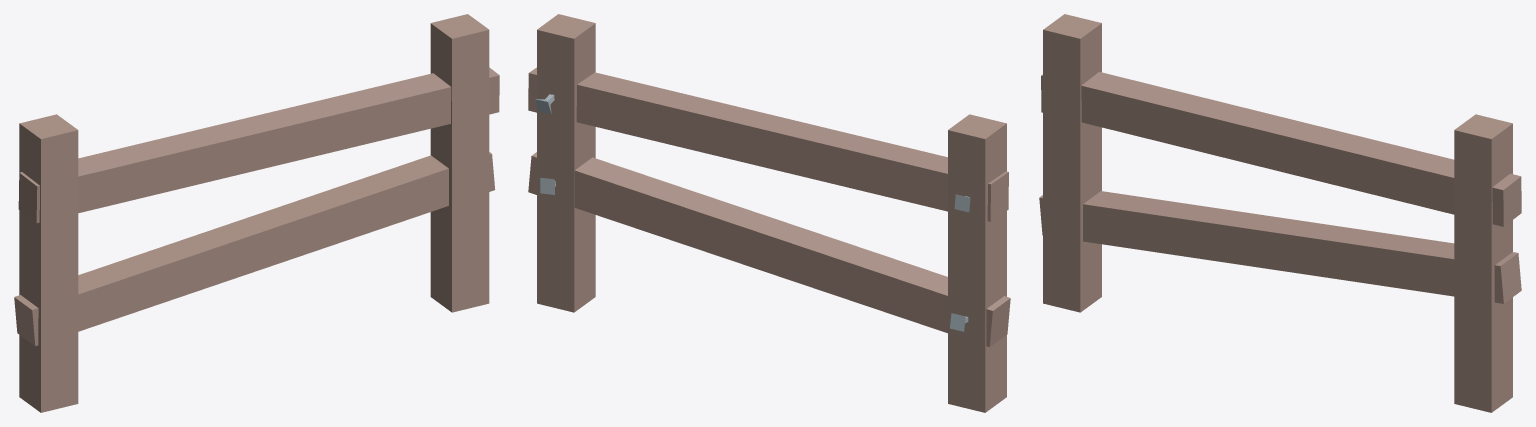
File: fence-3.glb
3 views of the same model, side by side, from view 1: azimuth 30°, elevation 25°; view 2: azimuth 150°, elevation 25°; view 3: azimuth 330°, elevation 25° (orthographic).
Parts seen in each view (by area): view 1: group1665241248, group1089299160, group320382041, group251762872; view 2: group1665241248, group1089299160, group320382041, group251762872; view 3: group1089299160, group1665241248, group251762872, group320382041.
Part boxes in pixels (box(x1,y1,x2,y2)): group1665241248: box(14, 152, 495, 346); group1089299160: box(18, 67, 499, 223); group320382041: box(19, 114, 78, 412); group251762872: box(430, 14, 489, 312); group1665241248: box(528, 152, 1010, 347); group1089299160: box(528, 67, 1008, 221); group320382041: box(948, 114, 1006, 412); group251762872: box(537, 14, 595, 312); group1089299160: box(1041, 71, 1521, 226); group1665241248: box(1039, 191, 1521, 303); group251762872: box(1454, 114, 1512, 412); group320382041: box(1043, 14, 1101, 312).
Bounding box in the file's own units: 0.9975 × 0.56 × 0.1153.
